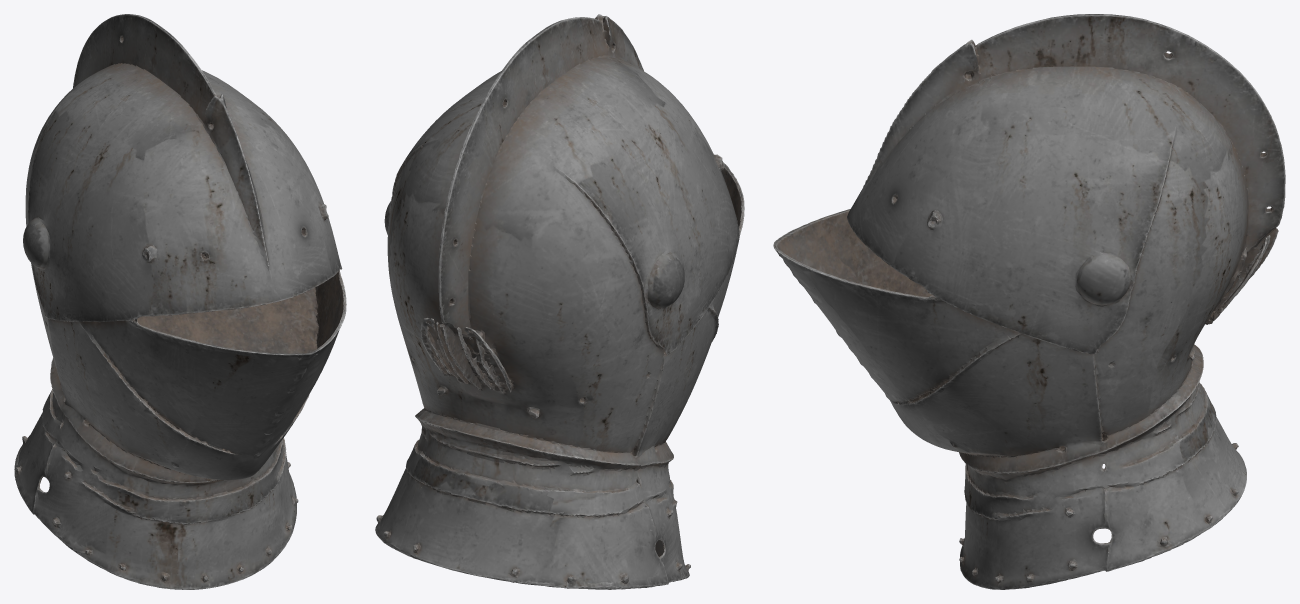
The model's file is Source.fbx.
3 renders of one model, left to right at view 1: azimuth 30°, elevation 25°; view 2: azimuth 150°, elevation 25°; view 3: azimuth 270°, elevation 25°, orthographic. The views are drawn at different scales.
Visible parts, largest first — view 1: model; view 2: model; view 3: model.
Boxes of the visible parts, x1,y1,x2,y2 form: model: (14,14,346,589); model: (375,14,744,589); model: (773,14,1285,589).
Size of the model in its own units: 101 by 190 by 161.
